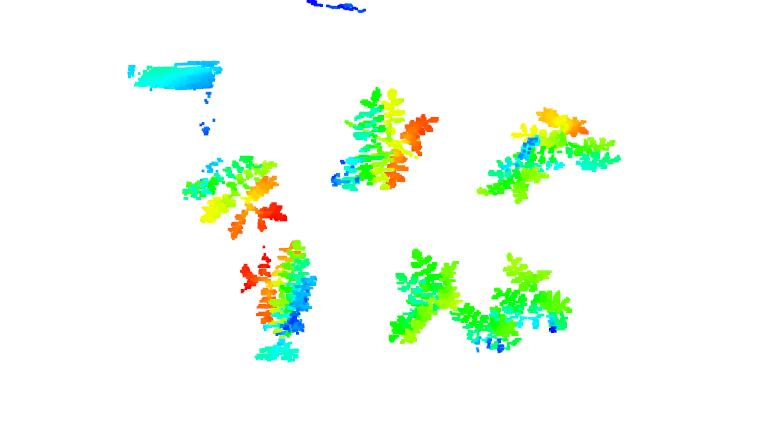chickpea: (477, 104, 614, 210), (452, 251, 571, 352), (240, 241, 319, 363), (383, 248, 474, 351), (339, 89, 424, 199), (186, 153, 287, 237)
